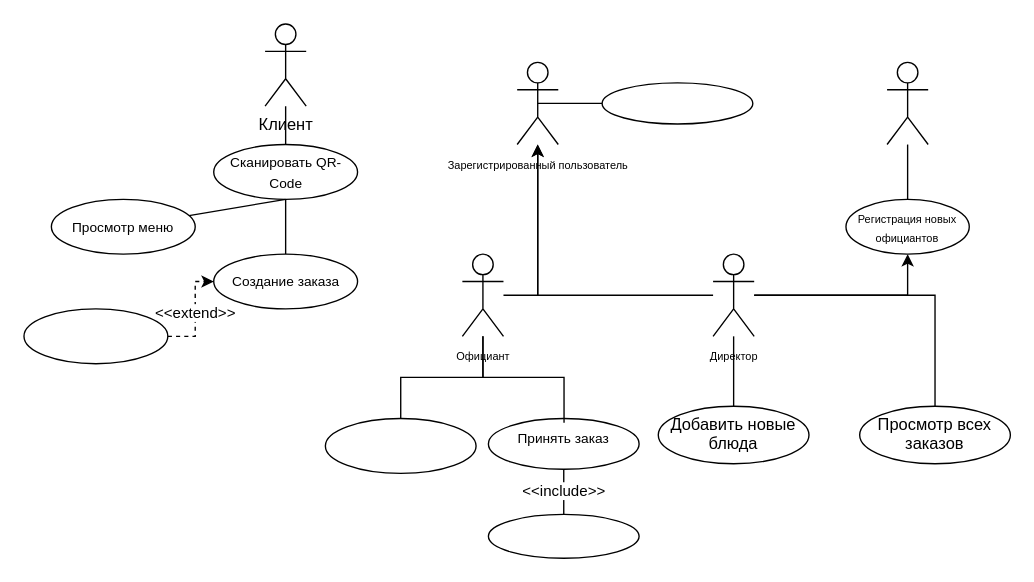
Some shapes in this 1034 by 582 pixel diagram are drawn without their labels. The shapes that lost their labels are listed below. From the top down, each one's centre as x and y in pixels, then its label:
the point at 677,103: Авторизация
the point at 907,103: Незарегистрированный пользователь
the point at 95,336: Дополнительные пожелания
the point at 400,445: Просмотр списка заказов
the point at 563,535: Отдать заказ
